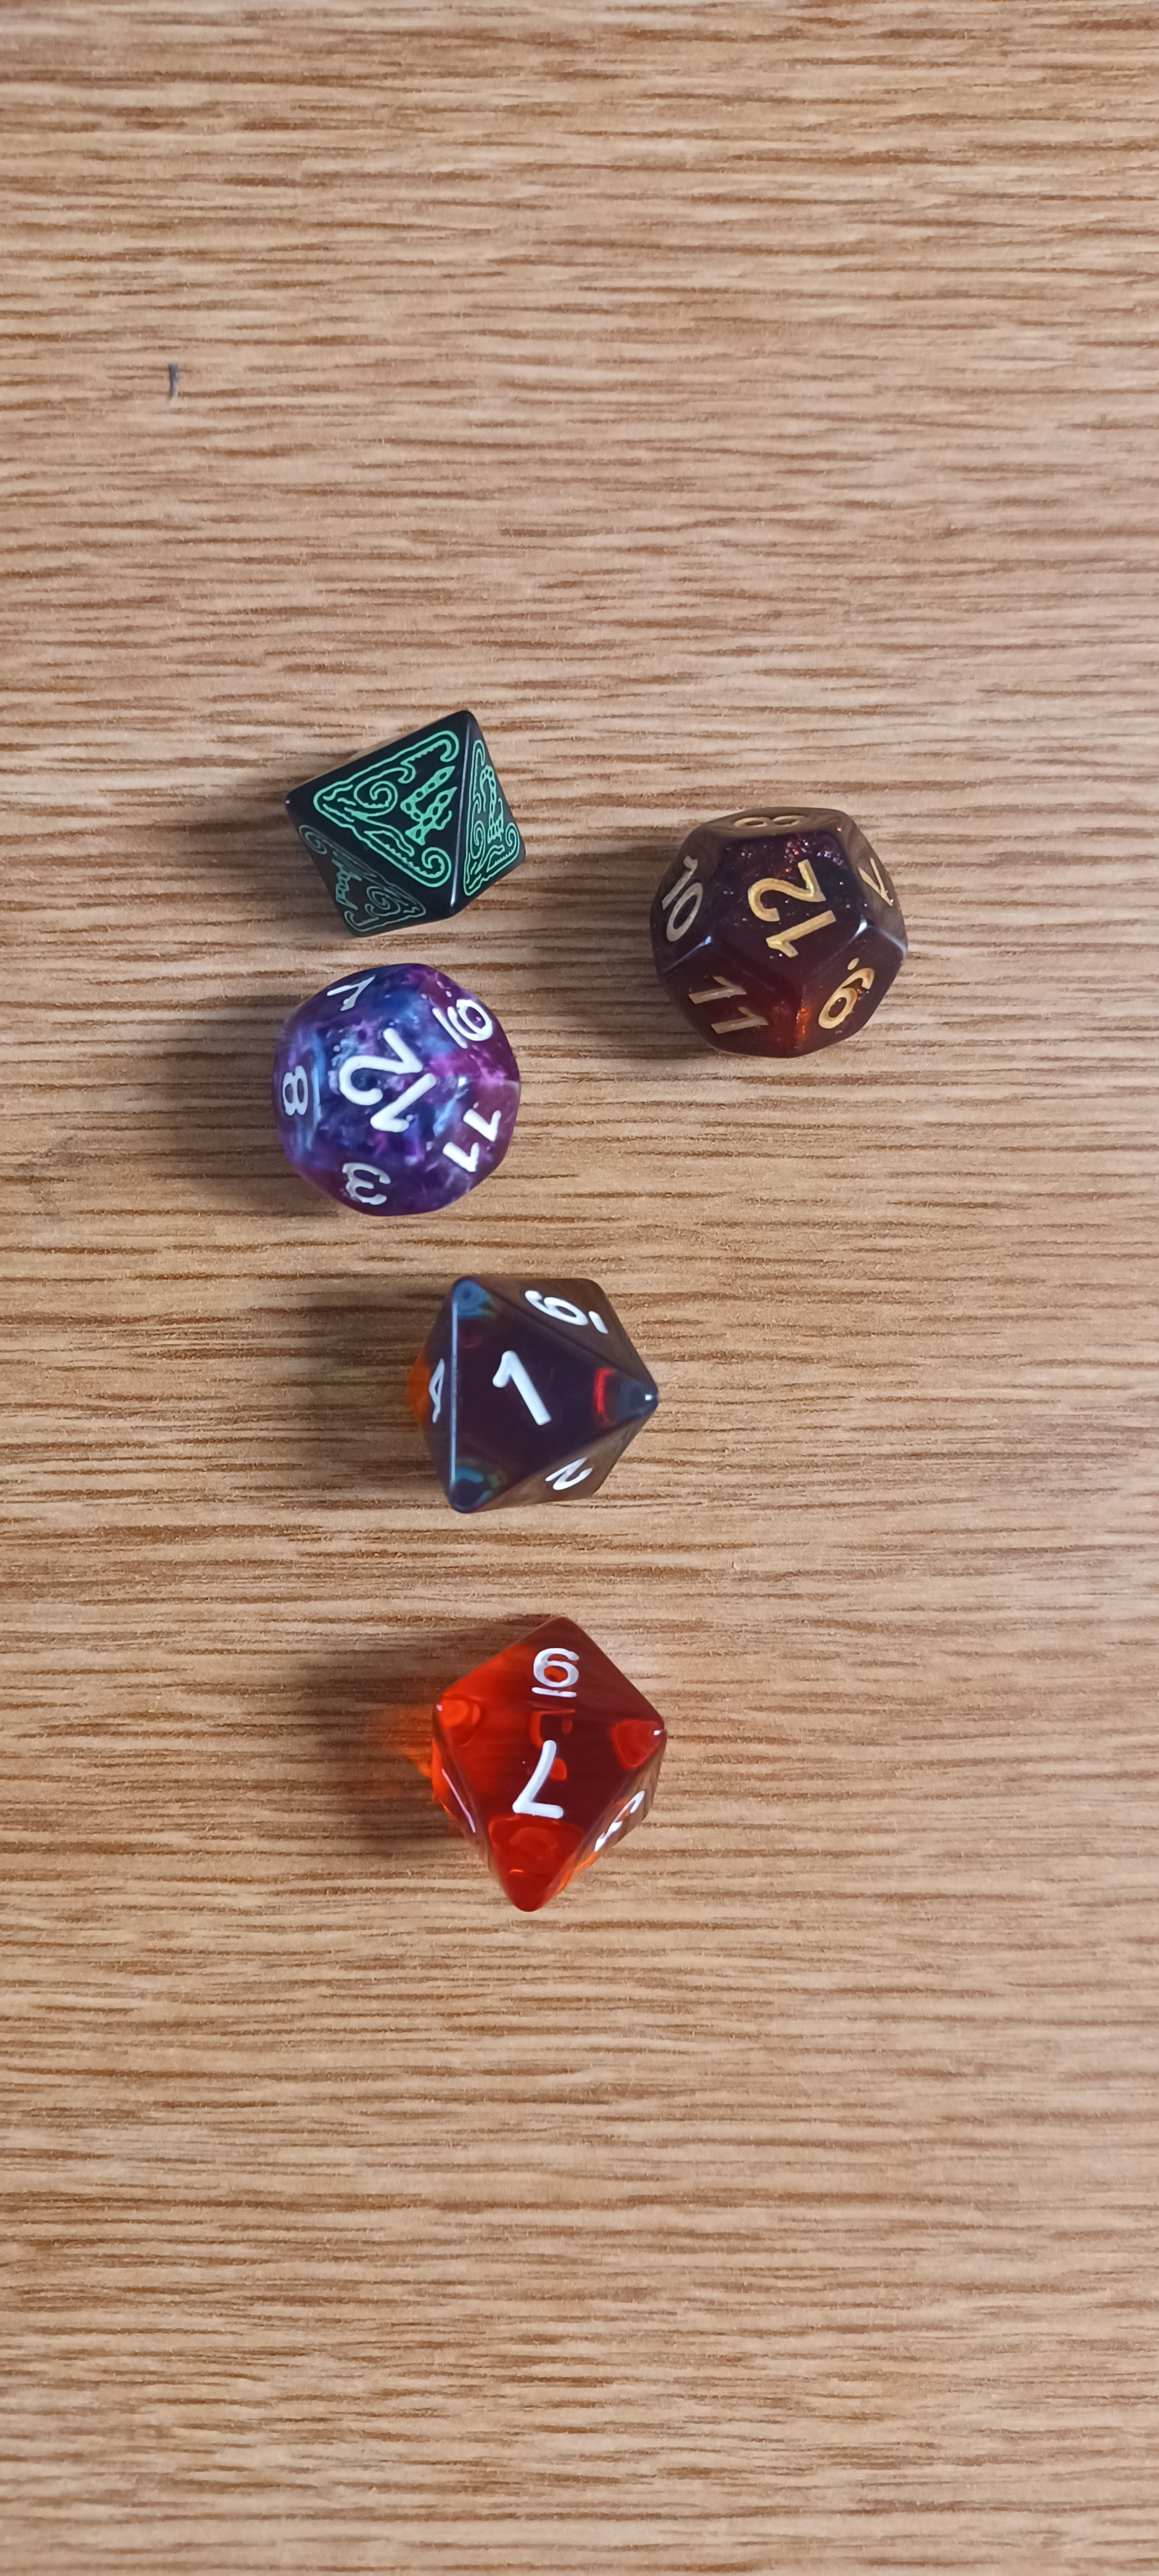four: (259, 677, 550, 951)
one: (392, 1252, 681, 1536)
seven: (383, 1576, 706, 1934)
twelve: (629, 761, 941, 1088), (253, 948, 542, 1244)
